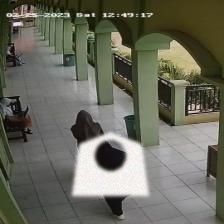Mukena: (72, 132, 148, 195)
